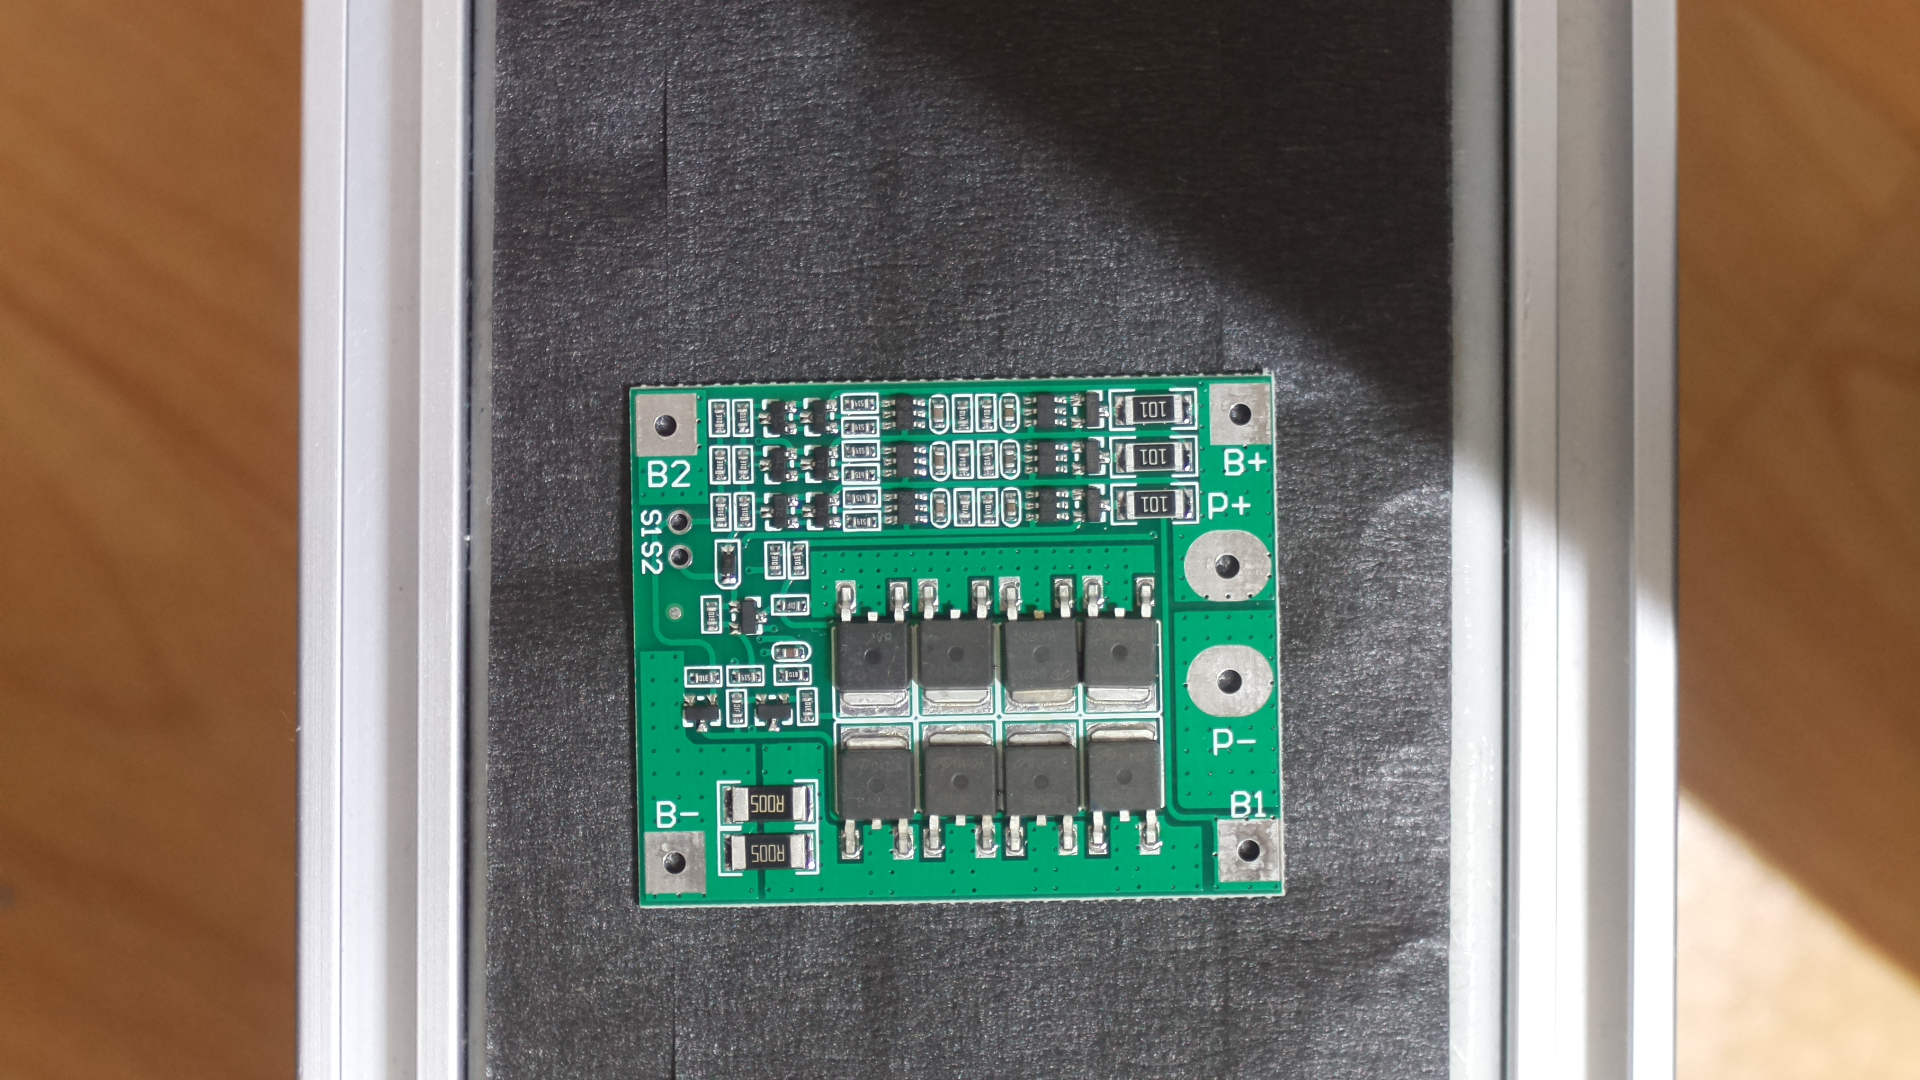C_Normal: (604, 345, 1312, 923)
